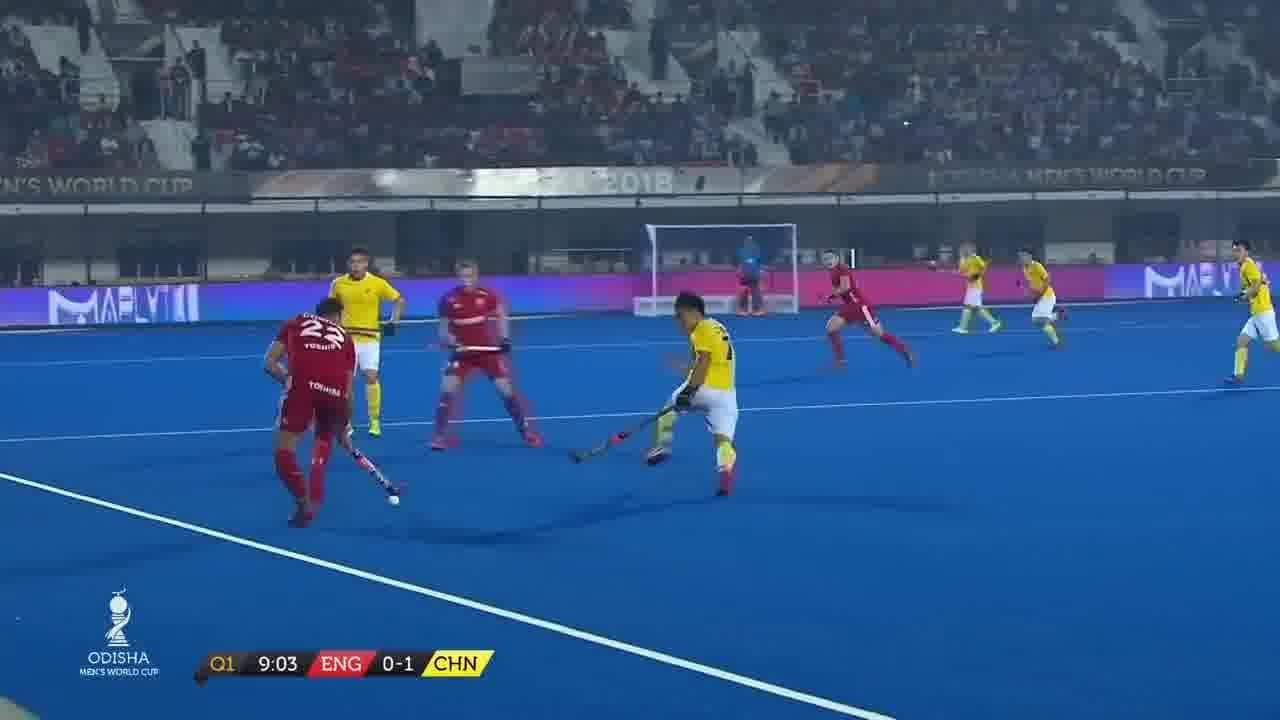ball: (386, 492, 406, 510)
